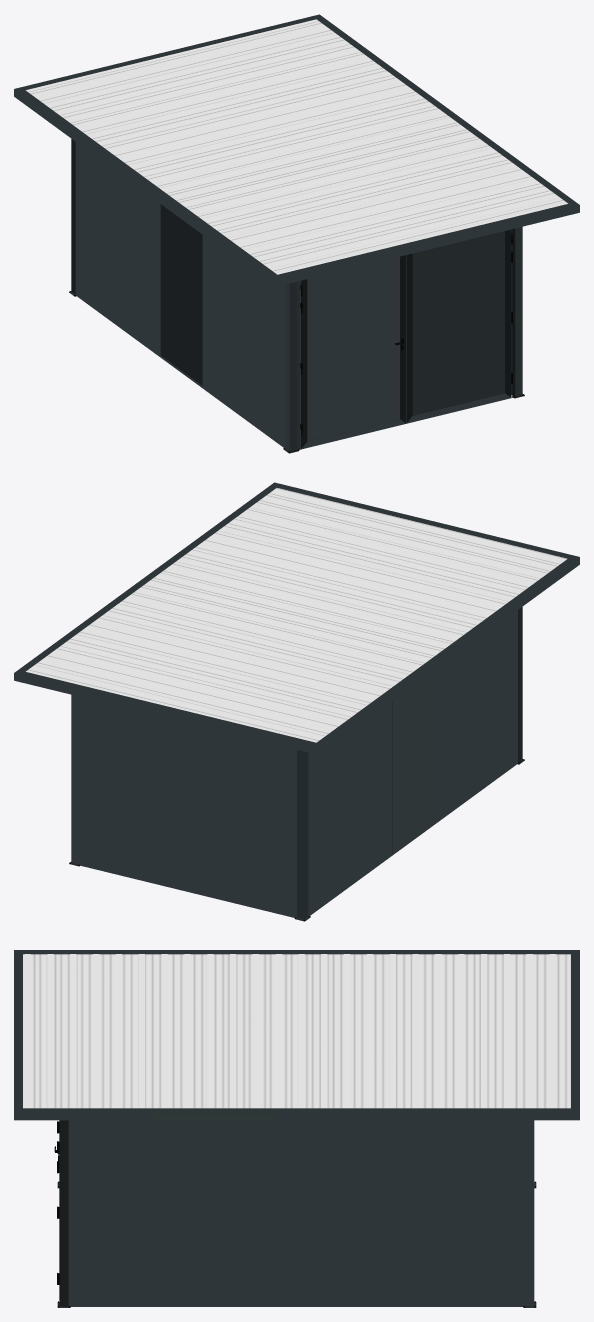
The model's file is 13439_PGBattant.fbx.
3 renders of one model, top to bottom at view 1: azimuth 30°, elevation 25°; view 2: azimuth 150°, elevation 25°; view 3: azimuth 270°, elevation 25°, orthographic. The views are drawn at different scales.
Parts seen in each view (by area): view 1: priximbattable_net_abris_de_voiture_13439_garage_5_x_3m_toit, folha, folha_2, porta_garage; view 2: priximbattable_net_abris_de_voiture_13439_garage_5_x_3m_toit; view 3: priximbattable_net_abris_de_voiture_13439_garage_5_x_3m_toit.
Part boxes in pixels (x1=…): priximbattable_net_abris_de_voiture_13439_garage_5_x_3m_toit: x1=14, y1=14, x2=579, y2=453; folha: x1=406, y1=229, x2=512, y2=423; folha_2: x1=300, y1=255, x2=405, y2=449; porta_garage: x1=297, y1=228, x2=515, y2=449; priximbattable_net_abris_de_voiture_13439_garage_5_x_3m_toit: x1=14, y1=482, x2=579, y2=921; priximbattable_net_abris_de_voiture_13439_garage_5_x_3m_toit: x1=14, y1=950, x2=579, y2=1307.
Bounding box in the file's own units: 420 × 259 × 620.
1 material, 1 textured.
